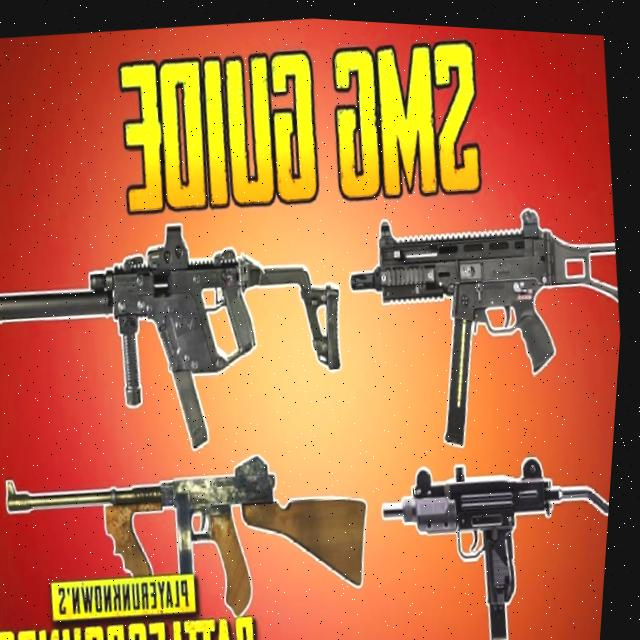firearm: (0, 189, 366, 476), (336, 179, 632, 455), (1, 433, 388, 640), (372, 427, 619, 640)
